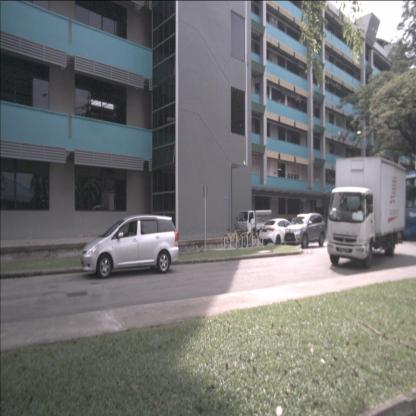vehicle-bus-rigid: (381, 171, 416, 244)
vehicle-car: (80, 214, 180, 279), (284, 213, 326, 249), (258, 218, 298, 245)
vehicle-truck: (327, 156, 406, 268), (237, 209, 272, 242)
